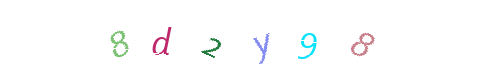2: (205, 0, 285, 80)
8: (92, 0, 172, 80), (268, 0, 348, 80)
9: (228, 0, 308, 80)
D: (172, 0, 252, 80)
Y: (221, 0, 301, 80)
